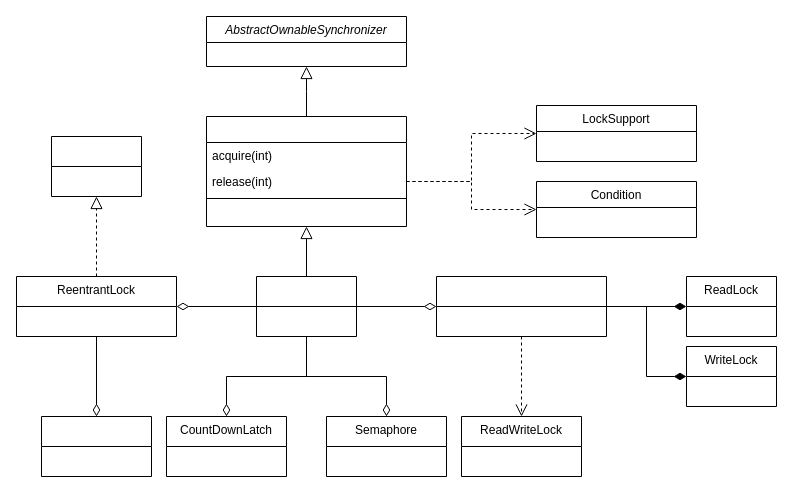
This 793x493 diagram has some shape labels left out. Here are the shapes that lost their labels. From the top down, the box of each, then its label:
(50, 136, 142, 196): Lock
(206, 116, 406, 226): AbstractQueuedSynchronizer
(256, 276, 356, 336): Sync
(436, 276, 606, 336): ReentrantReadWriteLock
(40, 416, 152, 476): CyclicBarrier
